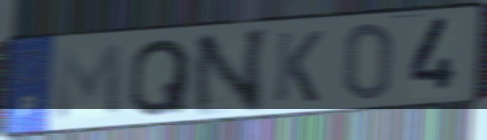0: (339, 21, 395, 104)
4: (406, 13, 464, 100)
K: (270, 28, 326, 105)
M: (53, 40, 125, 125)
N: (189, 25, 273, 120)
Q: (126, 36, 193, 120)
